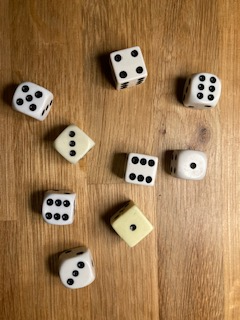five: (9, 80, 55, 121)
four: (108, 45, 150, 90)
one: (109, 201, 155, 249), (170, 148, 209, 181)
six: (183, 72, 222, 110), (42, 189, 78, 227), (124, 152, 160, 187)
three: (51, 124, 95, 165), (57, 246, 97, 291)
